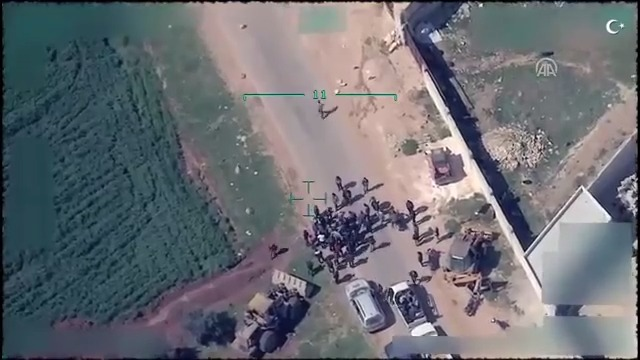arac: (230, 257, 321, 358), (441, 220, 506, 322), (346, 273, 386, 337), (426, 141, 461, 186)
insan: (308, 96, 330, 122), (359, 172, 376, 197), (267, 241, 284, 263), (405, 196, 419, 217), (302, 223, 312, 252), (333, 171, 345, 194), (417, 249, 426, 266)
